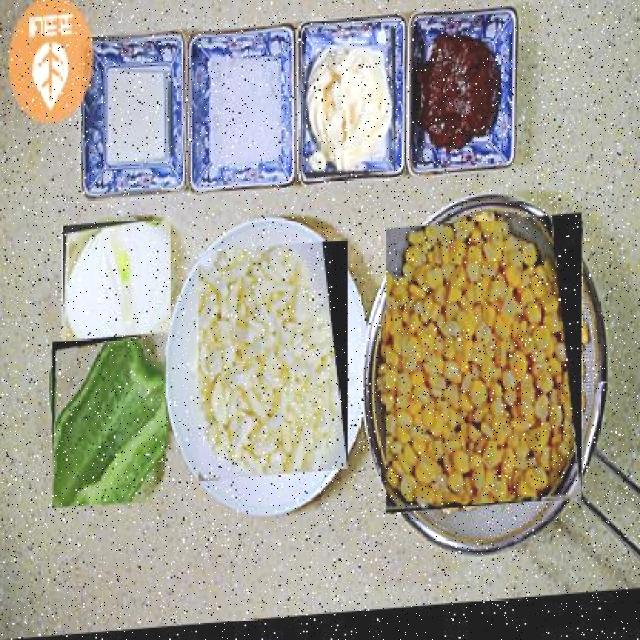Bell Pepper: (50, 334, 164, 509)
Cheese: (196, 244, 347, 484)
Corn: (384, 222, 582, 520)
Mayonnaise: (304, 33, 396, 184)
Onion: (59, 218, 170, 342)
